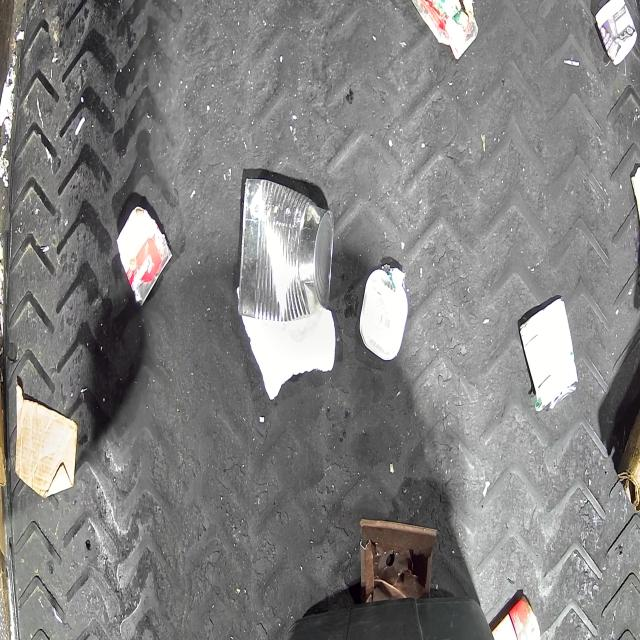can: (238, 178, 334, 320), (518, 295, 579, 414), (116, 206, 172, 306)
